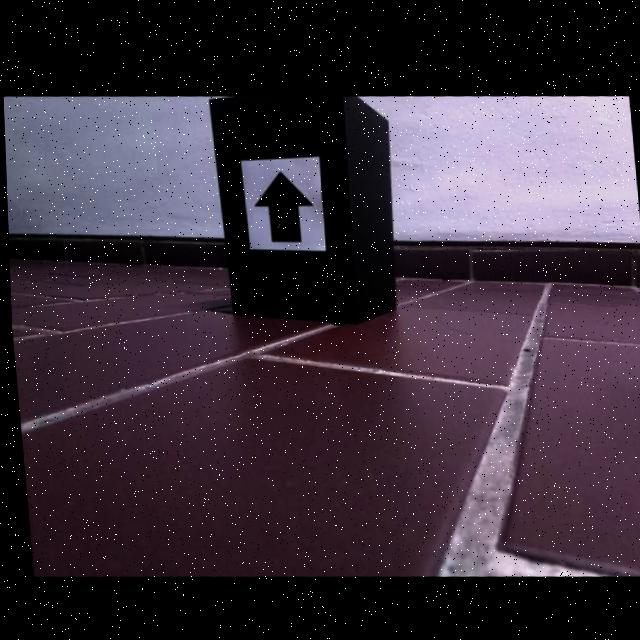UP: (252, 168, 313, 240)
